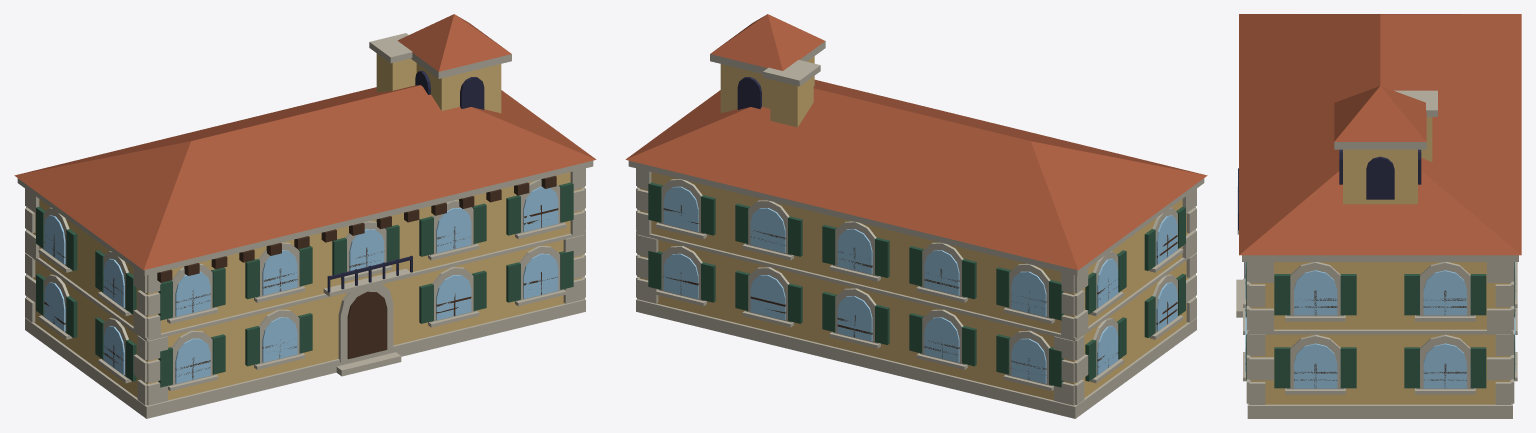
The model's file is house-2x1-2f-third-tuscan-a.glb.
3 renders of one model, left to right at view 1: azimuth 30°, elevation 25°; view 2: azimuth 150°, elevation 25°; view 3: azimuth 270°, elevation 25°, orthographic. The views are drawn at different scales.
Visible parts, largest first — view 1: house-2x1-2f-third-tuscan-a; view 2: house-2x1-2f-third-tuscan-a; view 3: house-2x1-2f-third-tuscan-a.
Boxes of the visible parts, <box> form: house-2x1-2f-third-tuscan-a: <box>14,14,596,418</box>; house-2x1-2f-third-tuscan-a: <box>625,14,1207,418</box>; house-2x1-2f-third-tuscan-a: <box>1236,14,1521,418</box>.
Bounding box in the file's own units: 1.98 × 1.13 × 0.99.
Materials: 1 (1 with a texture image).
